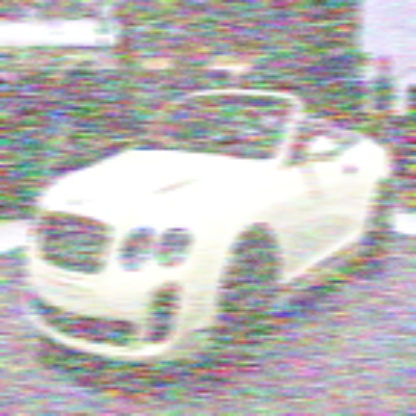Vehicle: (24, 91, 397, 380)
